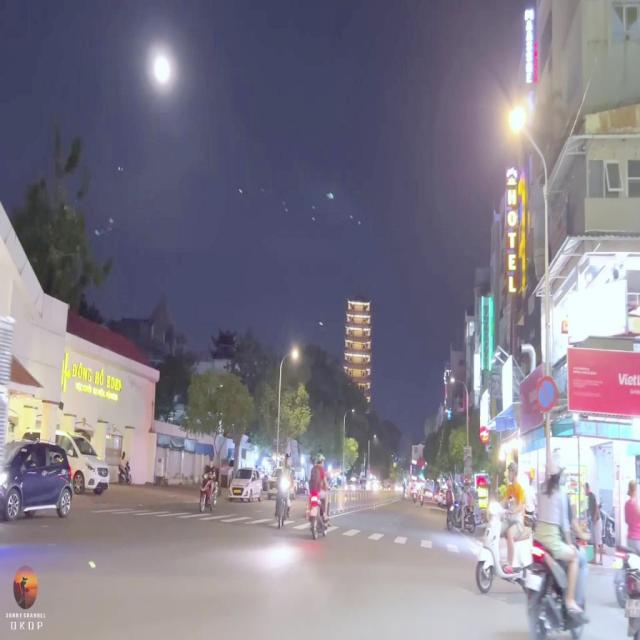cam_do_xe: (537, 374, 559, 413)
